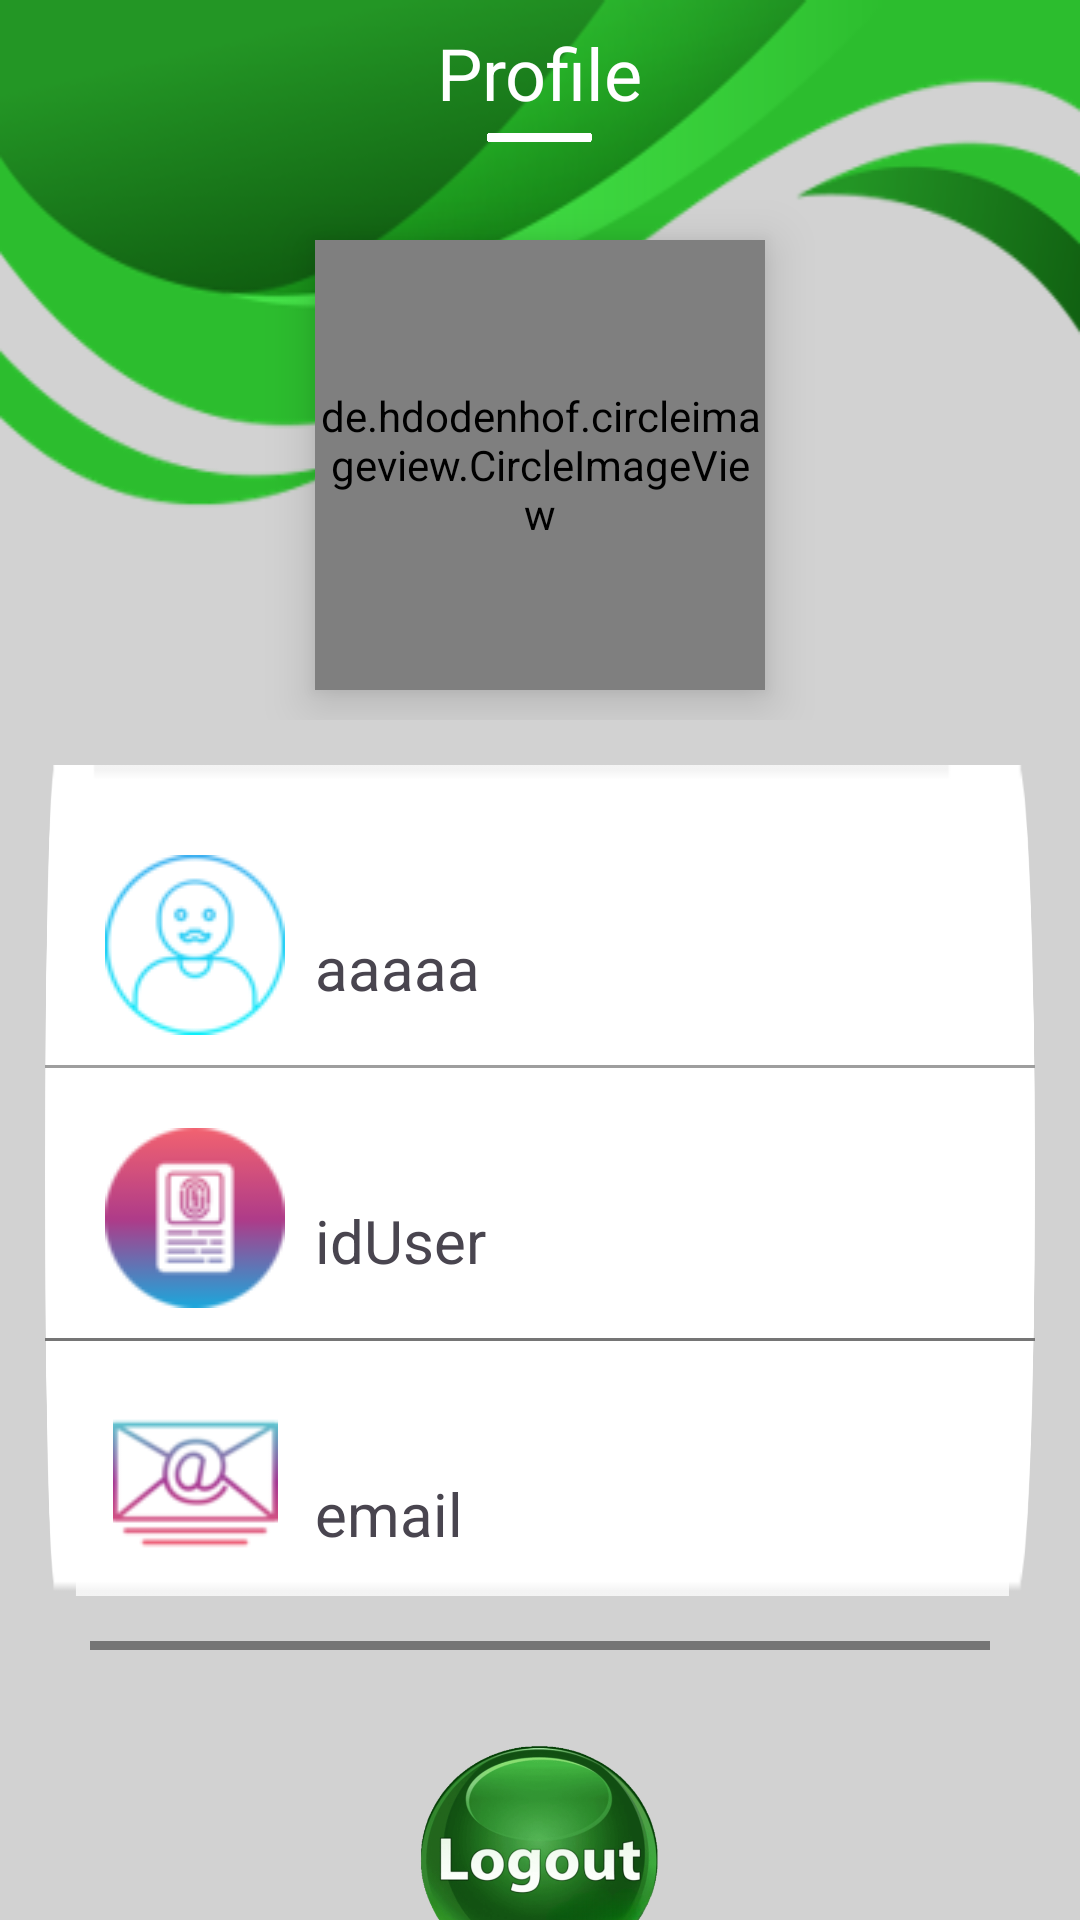

Icons on this 1080x1920 Android screen, each with the point to tap as (x,y):
idicon: (195,1218)
profileicon: (195,945)
